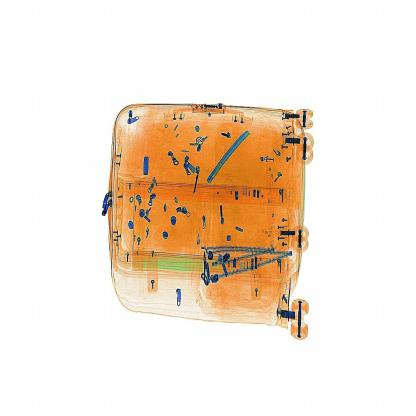pliers: (204, 116, 250, 197)
